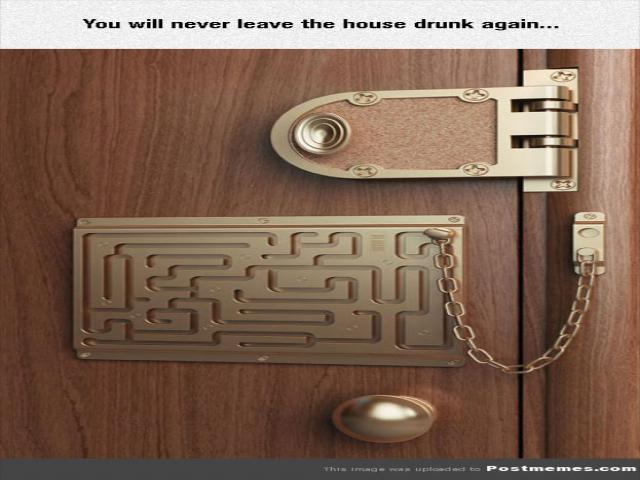Door-handle: (328, 393, 440, 444)
